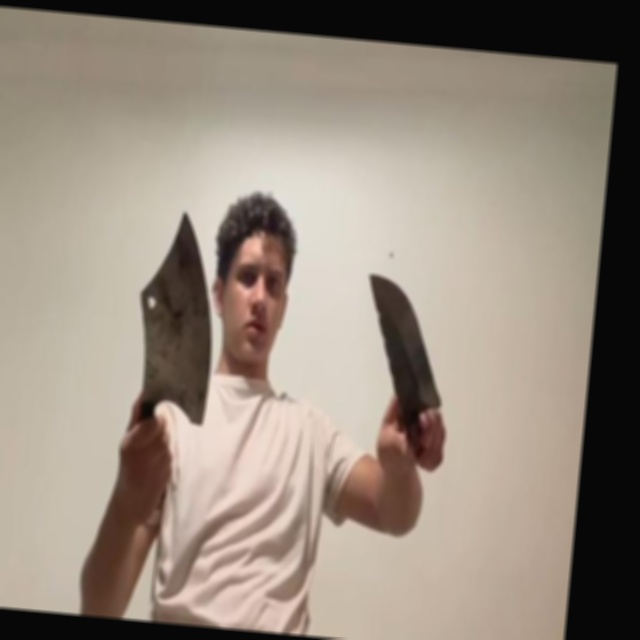Sharp-Object: (128, 208, 224, 426), (357, 272, 452, 411)
